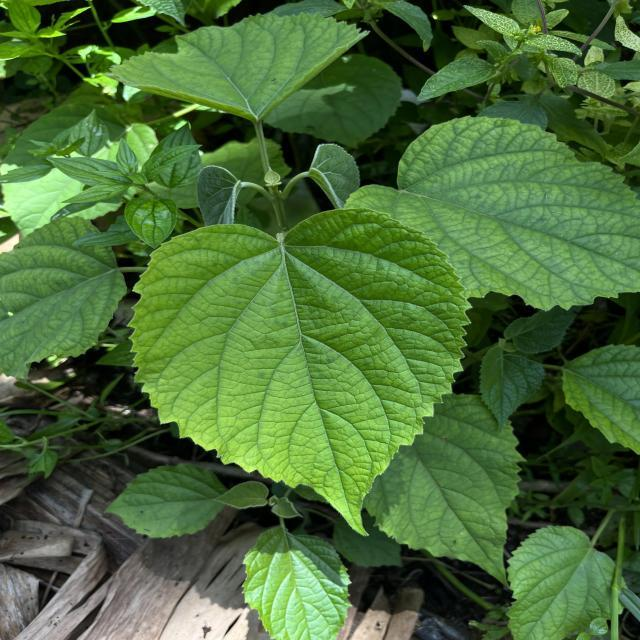Clerodendrum infortunatum: (125, 204, 479, 541), (340, 114, 640, 314), (364, 391, 530, 591), (102, 11, 374, 123), (0, 212, 127, 383)
